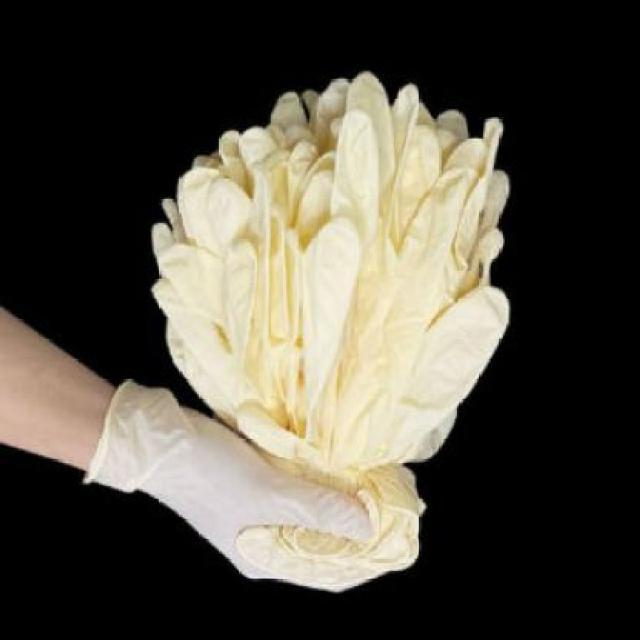gloved_hand: (148, 70, 523, 516)
